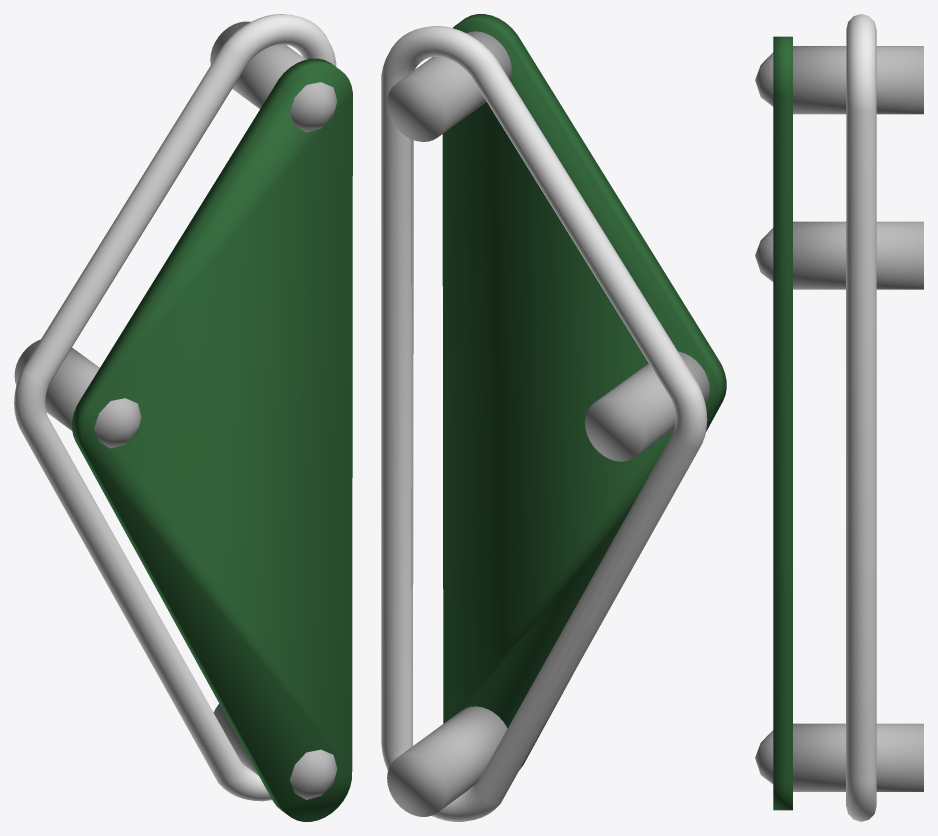
File: slingshotleft.fbx
The picture shows the model from 3 angles, left to right: view 1: azimuth 30°, elevation 25°; view 2: azimuth 150°, elevation 25°; view 3: azimuth 270°, elevation 25°; orthographic projection.
Parts seen in each view (by area): view 1: Cylinder_000; view 2: Cylinder_000; view 3: Cylinder_000.
Boxes of the visible parts, x1,y1,x2,y2 form: Cylinder_000: (14,14,352,821); Cylinder_000: (381,14,726,821); Cylinder_000: (755,14,923,821).
Size of the model in its own units: 0.7592 by 1.78 by 0.3433.
